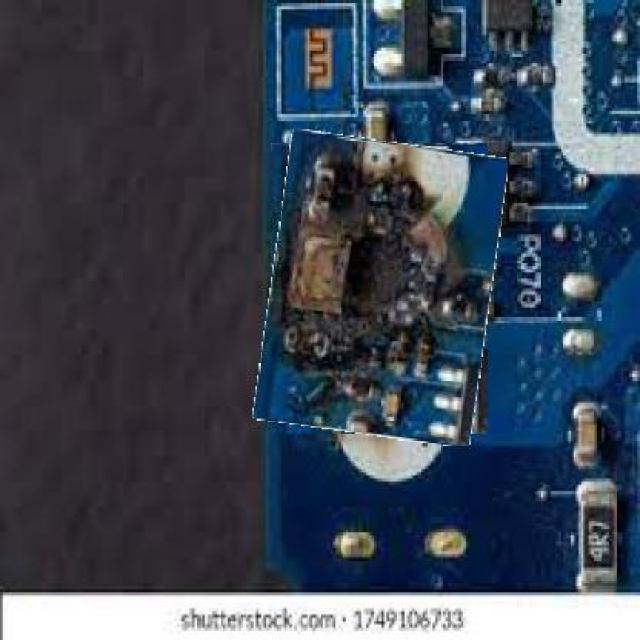Burn: (262, 136, 500, 442)
